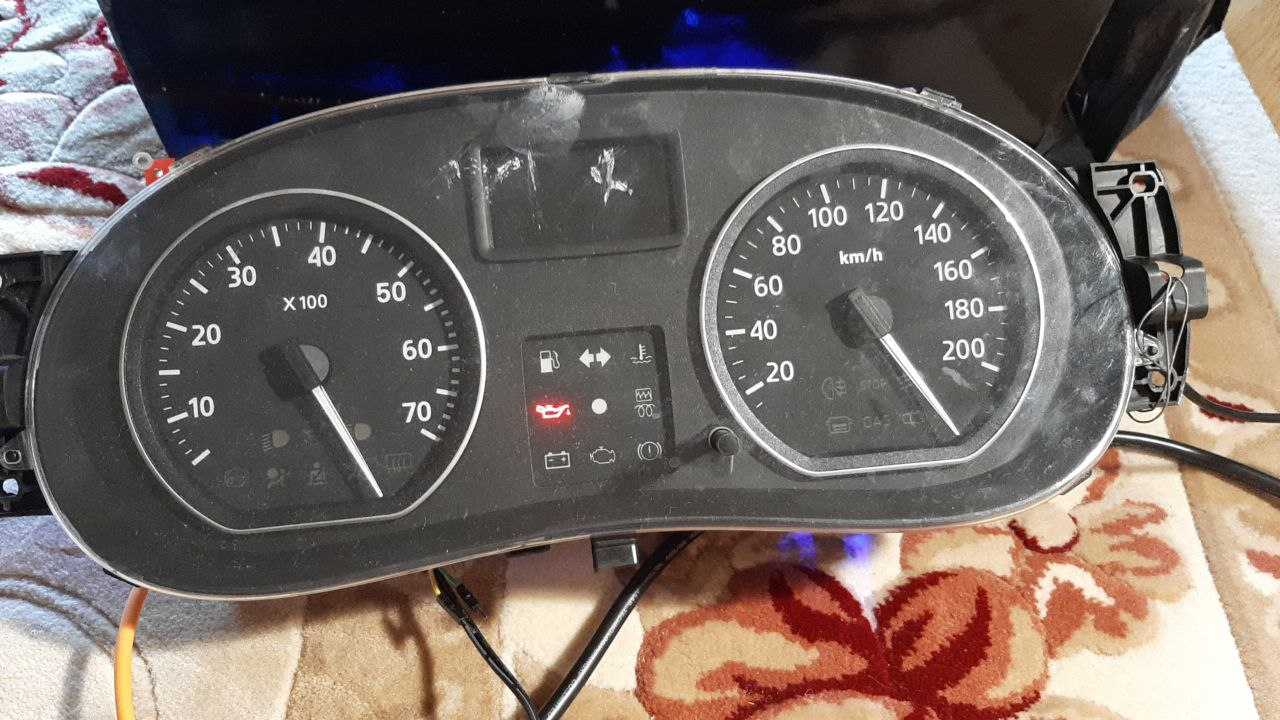oil: (526, 395, 576, 420)
